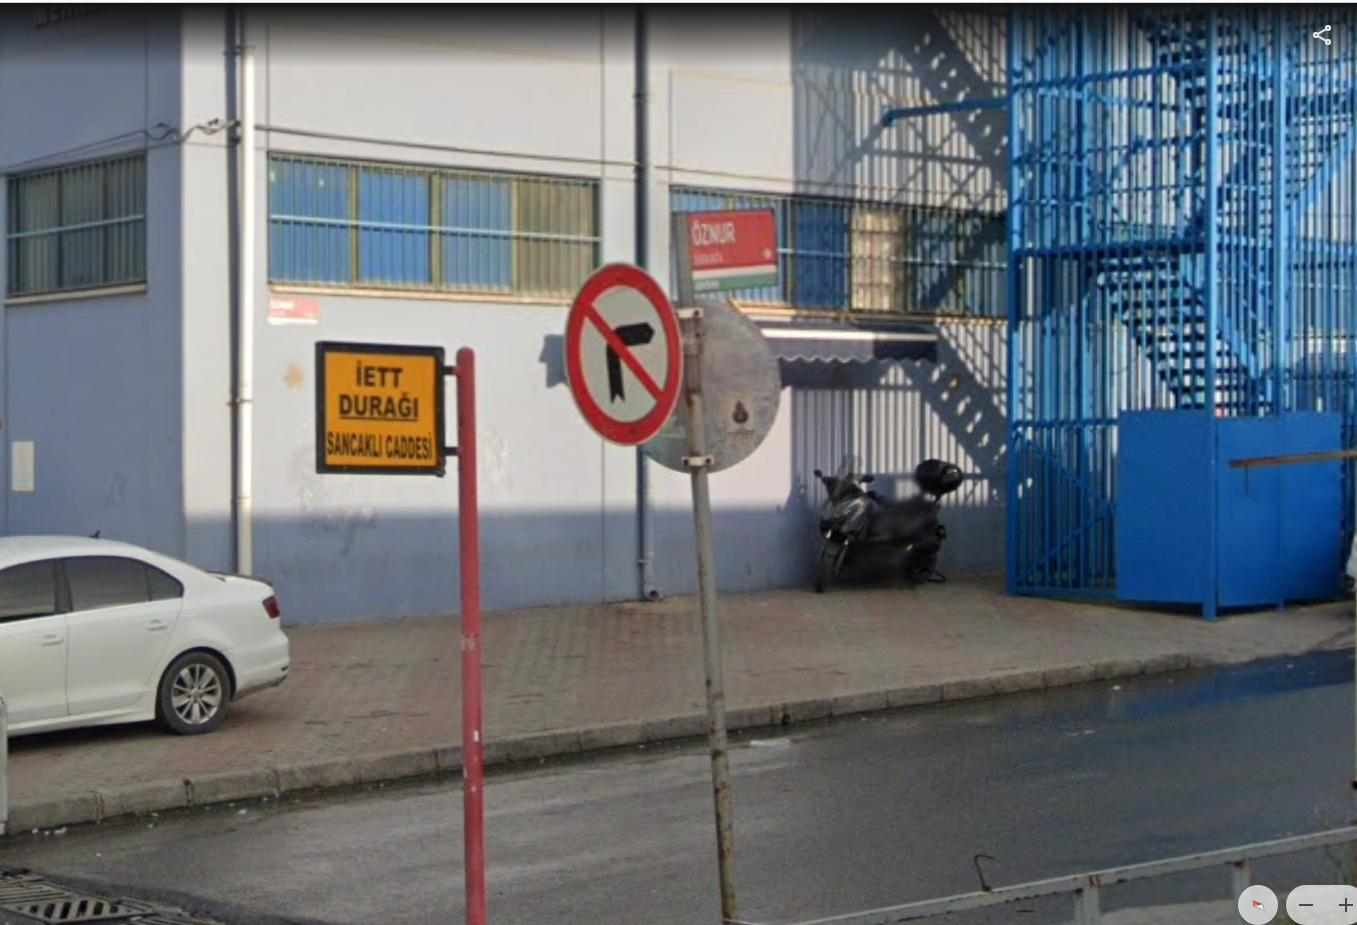rightturnsareforbidden: (564, 265, 687, 437)
